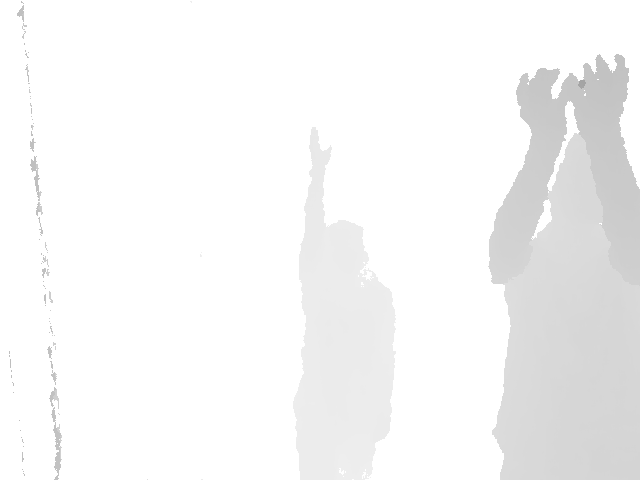hand: (572, 53, 630, 131), (516, 68, 571, 134), (309, 126, 334, 167)
head: (548, 132, 607, 229), (319, 221, 370, 279)
person: (487, 53, 640, 480), (290, 126, 397, 480)
